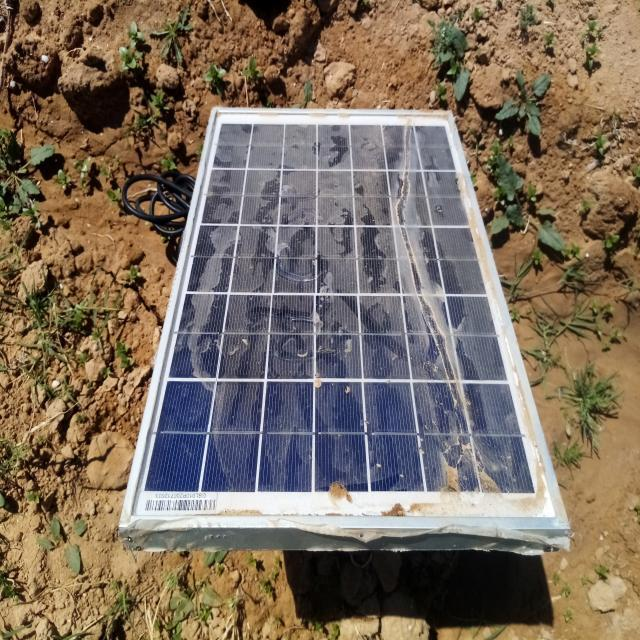faulty: (122, 109, 562, 527)
